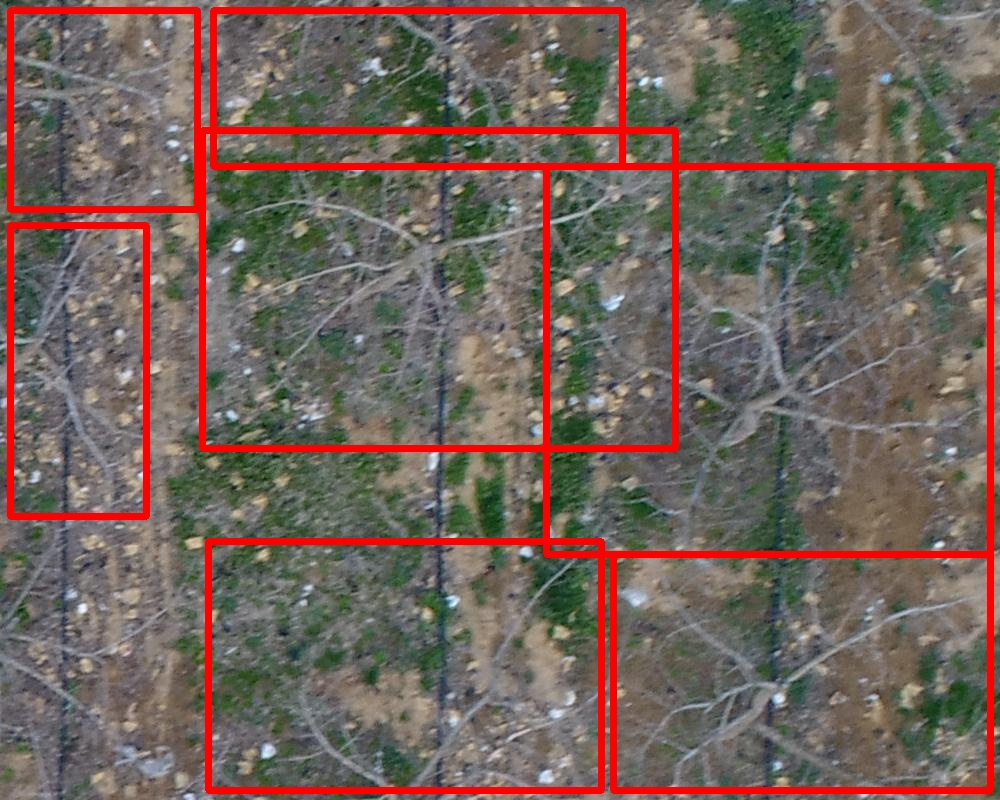apple: (546, 166, 990, 554), (202, 130, 675, 448), (208, 541, 601, 790), (613, 554, 990, 790), (213, 10, 622, 166), (10, 225, 146, 516), (10, 10, 197, 209)
